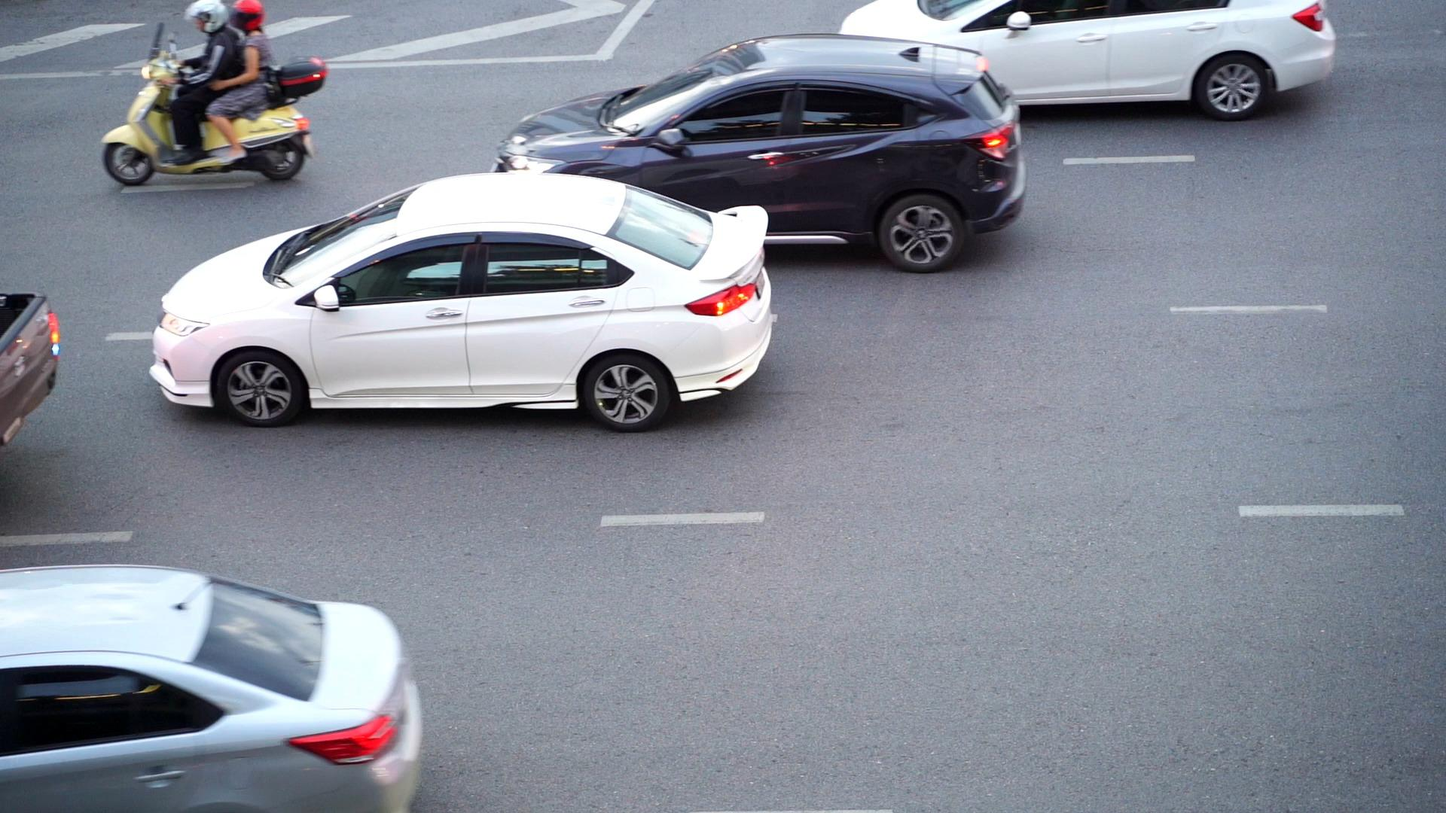driver: (99, 0, 327, 185)
helmet: (183, 0, 229, 34), (229, 0, 266, 32)
